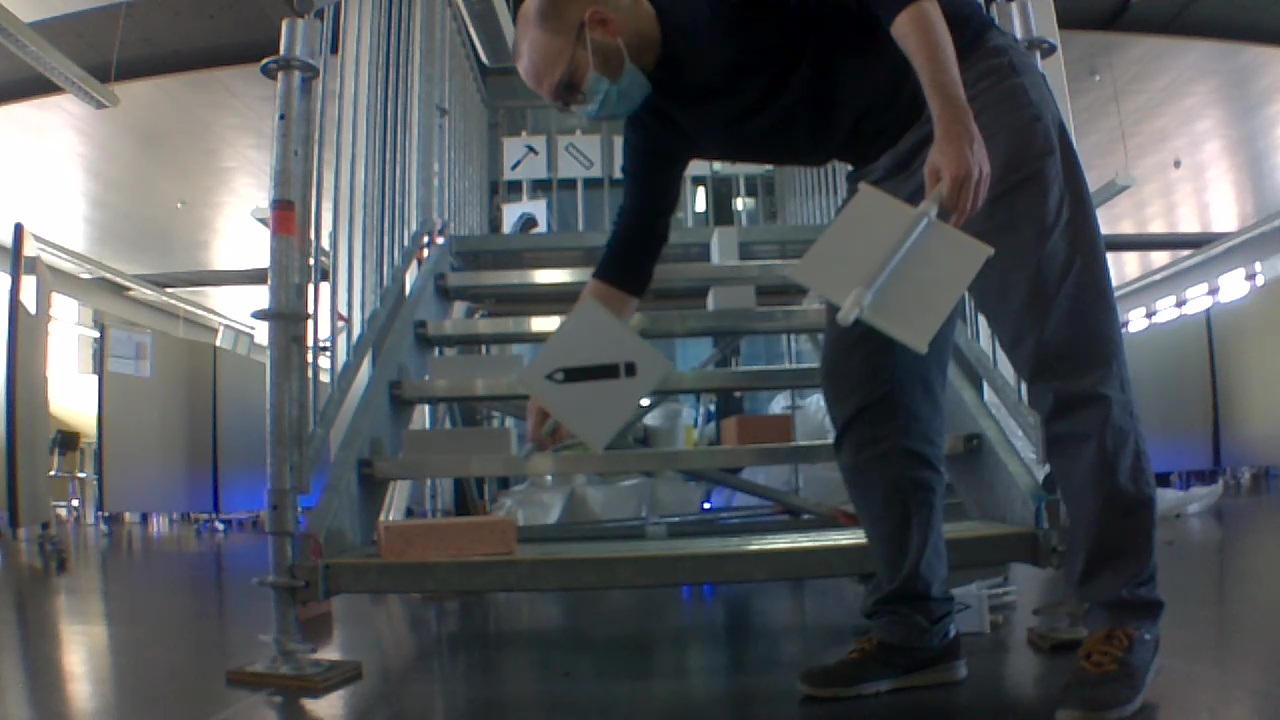brick: (379, 510, 523, 561), (398, 429, 518, 462), (722, 414, 797, 449), (701, 286, 758, 312), (711, 226, 736, 262)
edge: (317, 542, 872, 598)
hammer: (507, 140, 542, 173)
pencil: (545, 357, 638, 387)
ruler: (564, 141, 595, 175)
taco: (513, 209, 540, 232)
